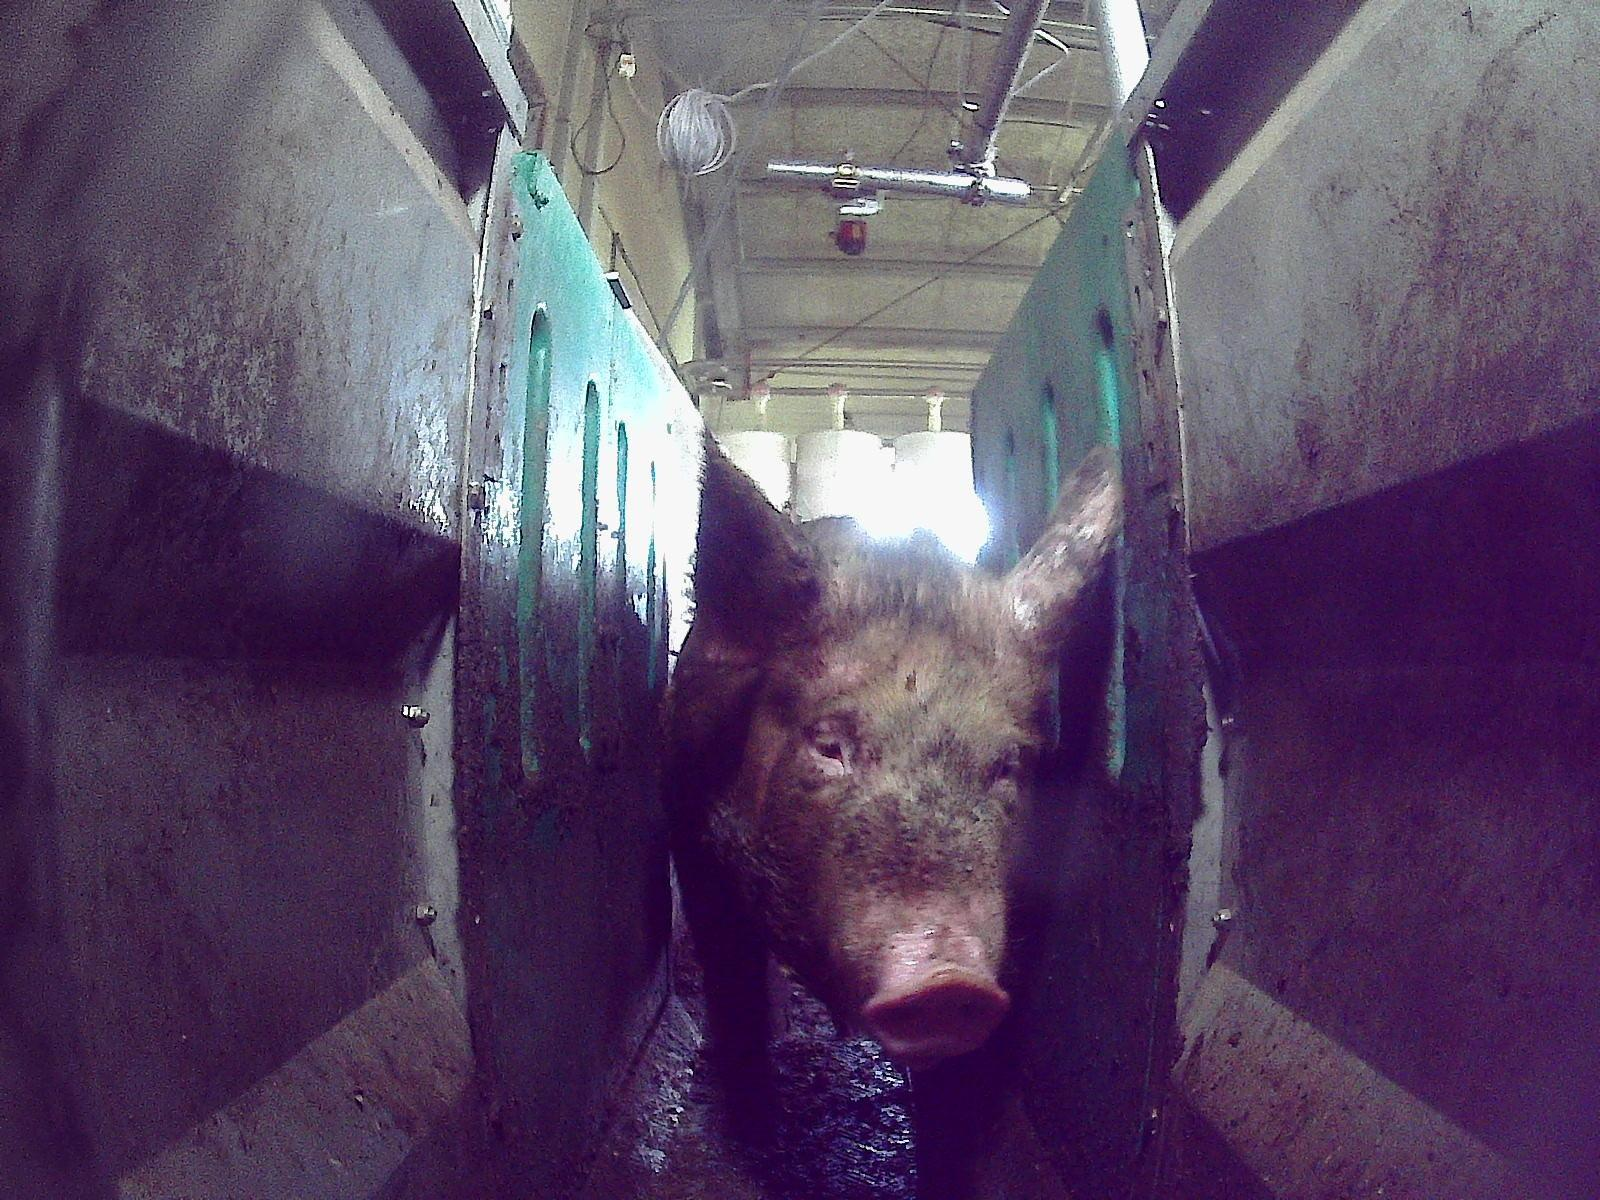Face: (743, 596, 1031, 1053)
